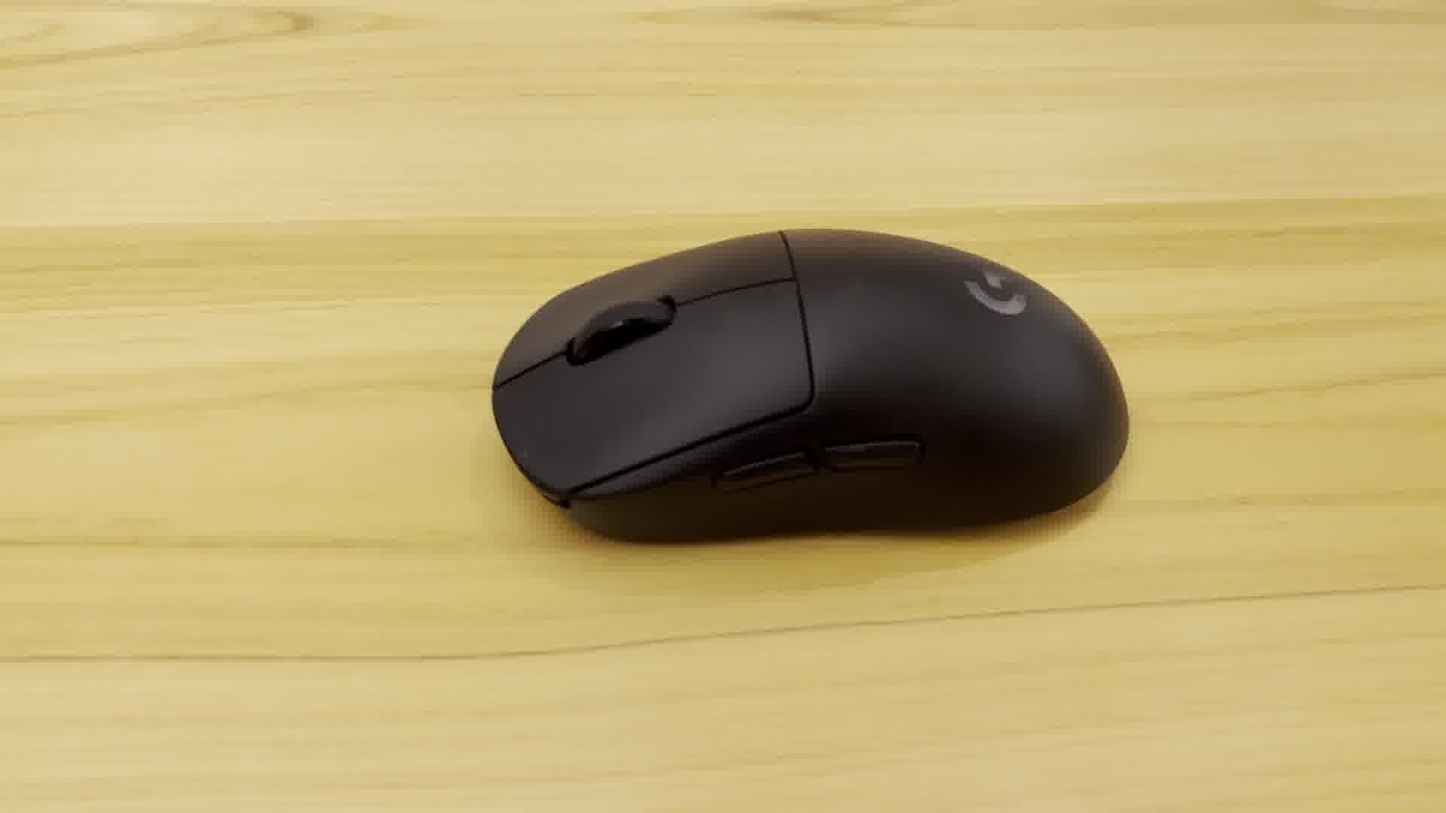logicool: (486, 218, 1147, 558)
